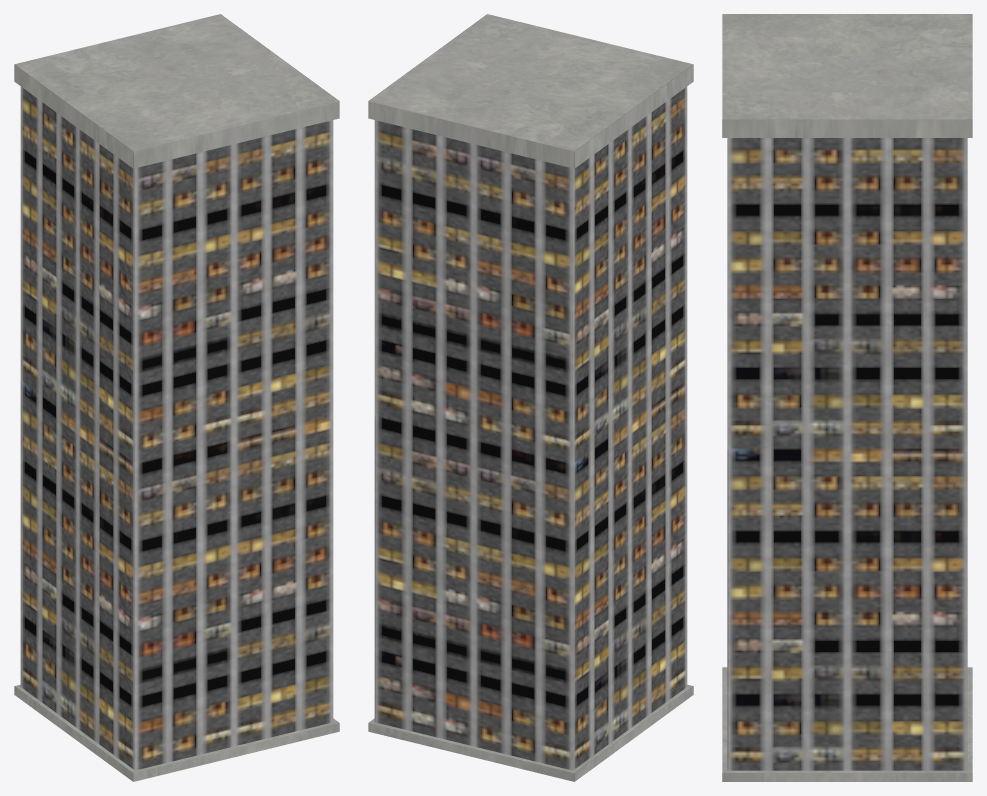
The model's file is building_01.1.glb.
The picture shows the model from 3 angles, left to right: view 1: azimuth 30°, elevation 25°; view 2: azimuth 150°, elevation 25°; view 3: azimuth 270°, elevation 25°; orthographic projection. The views are drawn at different scales.
Visible parts, largest first — view 1: building_01.1; view 2: building_01.1; view 3: building_01.1.
Boxes of the visible parts, left/top/right/bottom form: building_01.1: left=14, top=14, right=339, bottom=781; building_01.1: left=368, top=14, right=693, bottom=781; building_01.1: left=722, top=14, right=972, bottom=781.
Bounding box in the file's own units: 25 × 73 × 25.
1 material, 1 textured.
